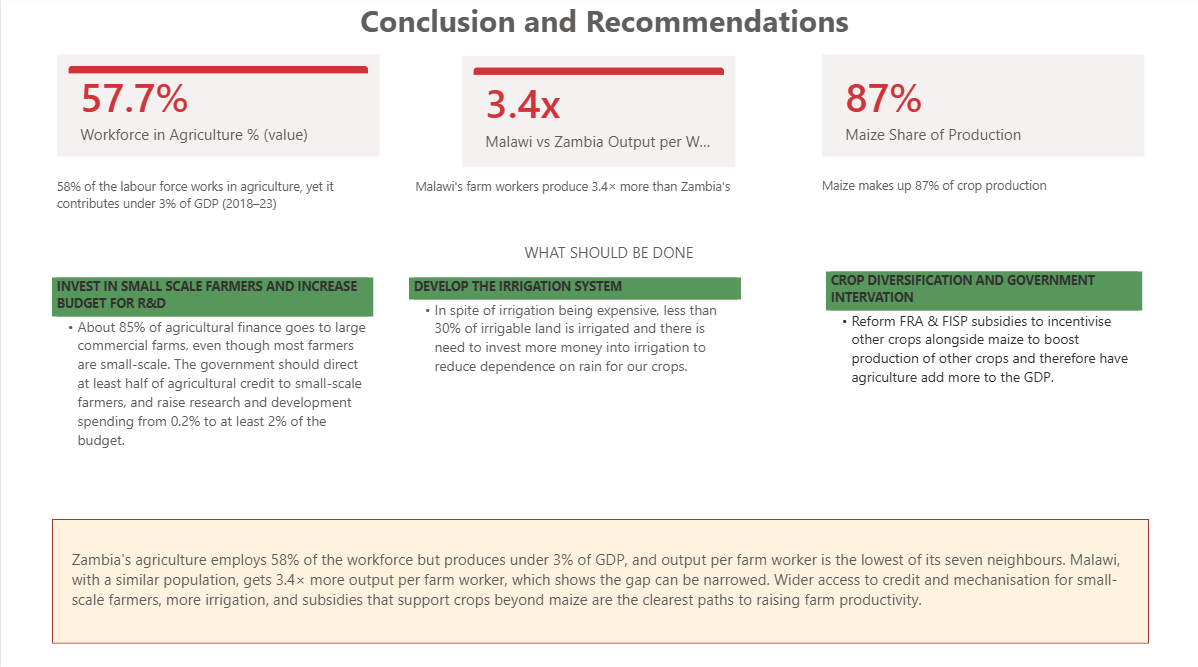

The page's visual inventory and layout, read from the dashboard file:
{"tool":"powerbi","page":{"name":"Conclusions","canvas":[1280,720],"ordinal":4},"visuals":[{"type":"cardVisual","title":"More than half the country''s labour force is employedin agriculture","fields":{"Data":["Data.Workforce in Agriculture % (value)"]},"box":[54.5,59.3,352.1,118],"z":0},{"type":"textbox","box":[54.5,188.7,340.4,62.2],"z":1000},{"type":"textbox","box":[433.8,188.7,350.2,69.1],"z":2000},{"type":"cardVisual","fields":{"Data":["Zambian Agriculture.Maize Share of Production"]},"box":[865.7,59.3,352.1,118.7],"z":3000},{"type":"textbox","box":[865.7,187.7,345.3,76.8],"z":4000},{"type":"textbox","box":[9.7,257.8,1270.3,36],"z":5000},{"type":"textbox","title":"INVEST IN SMALL SCALE FARMERS AND INCREASE BUDGET FOR R&D","box":[54.5,300.5,340.4,246.1],"z":6000},{"type":"textbox","title":"DEVELOP THE IRRIGATION SYSTEM","box":[431.9,300.5,352.1,246.1],"z":7000},{"type":"textbox","title":"CROP DIVERSIFICATION AND GOVERNMENT INTERVATION","box":[875.4,293.7,335.6,246.1],"z":8000},{"type":"shape","box":[54.5,557.3,1163.3,132.3],"z":9000},{"type":"textbox","title":"insight","box":[70,565.1,1140.9,112.8],"z":10000},{"type":"textbox","box":[0,0,1280,68.9],"z":11000},{"type":"cardVisual","fields":{"Data":["Data.Malawi vs Zambia Output per Worker"]},"box":[483.3,60,300,128.3],"z":12000}]}

Visuals, with their boxes in screenshot pixels (x1, y1, x2, y2), scaled from the page's 1280x720 canvas onto the 1198x667 screenshot:
"More than half the country''s labour force is employedin agriculture" cardVisual: <box>51,55,381,164</box>
textbox: <box>51,175,370,232</box>
textbox: <box>406,175,734,239</box>
cardVisual - Zambian Agriculture.Maize Share of Production: <box>810,55,1140,165</box>
textbox: <box>810,174,1133,245</box>
textbox: <box>9,239,1197,272</box>
"INVEST IN SMALL SCALE FARMERS AND INCREASE BUDGET FOR R&D" textbox: <box>51,278,370,506</box>
"DEVELOP THE IRRIGATION SYSTEM" textbox: <box>404,278,734,506</box>
"CROP DIVERSIFICATION AND GOVERNMENT INTERVATION" textbox: <box>819,272,1133,500</box>
shape: <box>51,516,1140,639</box>
"insight" textbox: <box>66,524,1133,628</box>
textbox: <box>0,0,1197,64</box>
cardVisual - Data.Malawi vs Zambia Output per Worker: <box>452,56,733,174</box>
